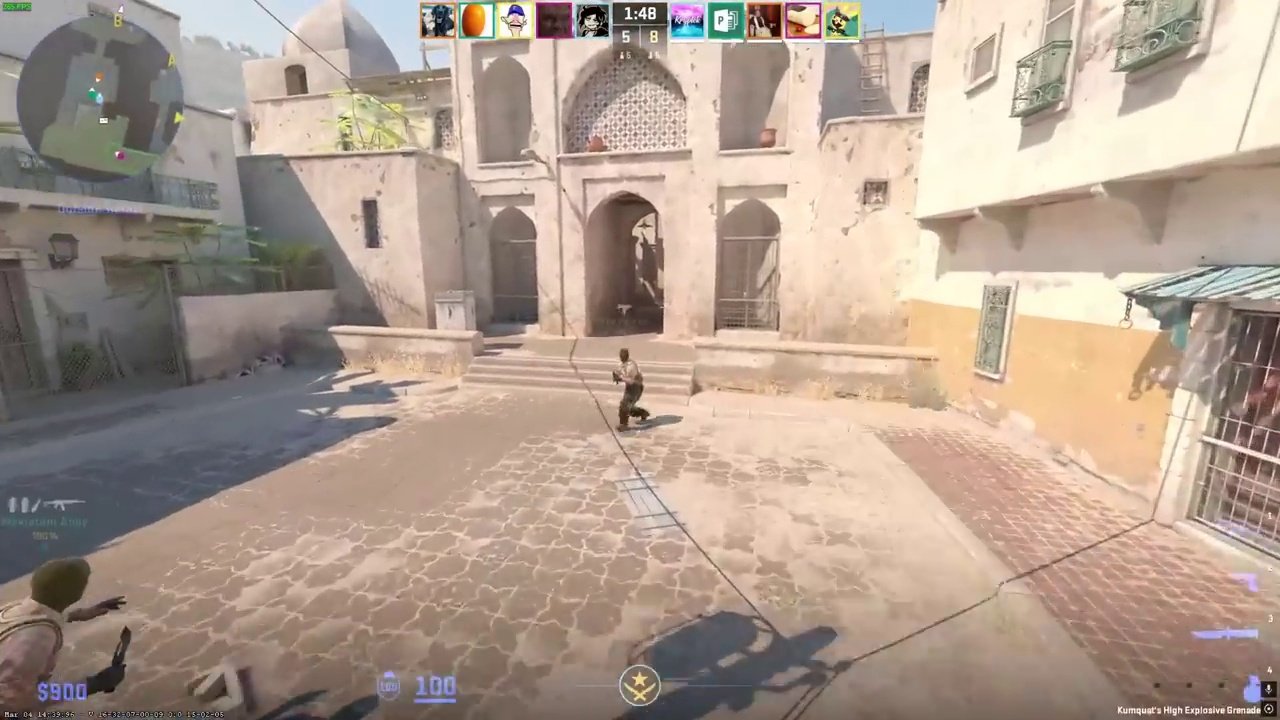Terrorist: (0, 557, 102, 720), (613, 348, 644, 430)
